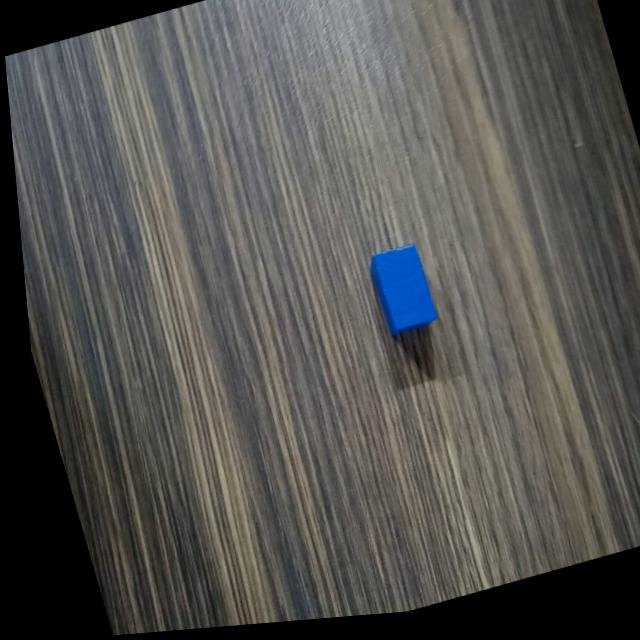cube: (358, 244, 436, 345)
